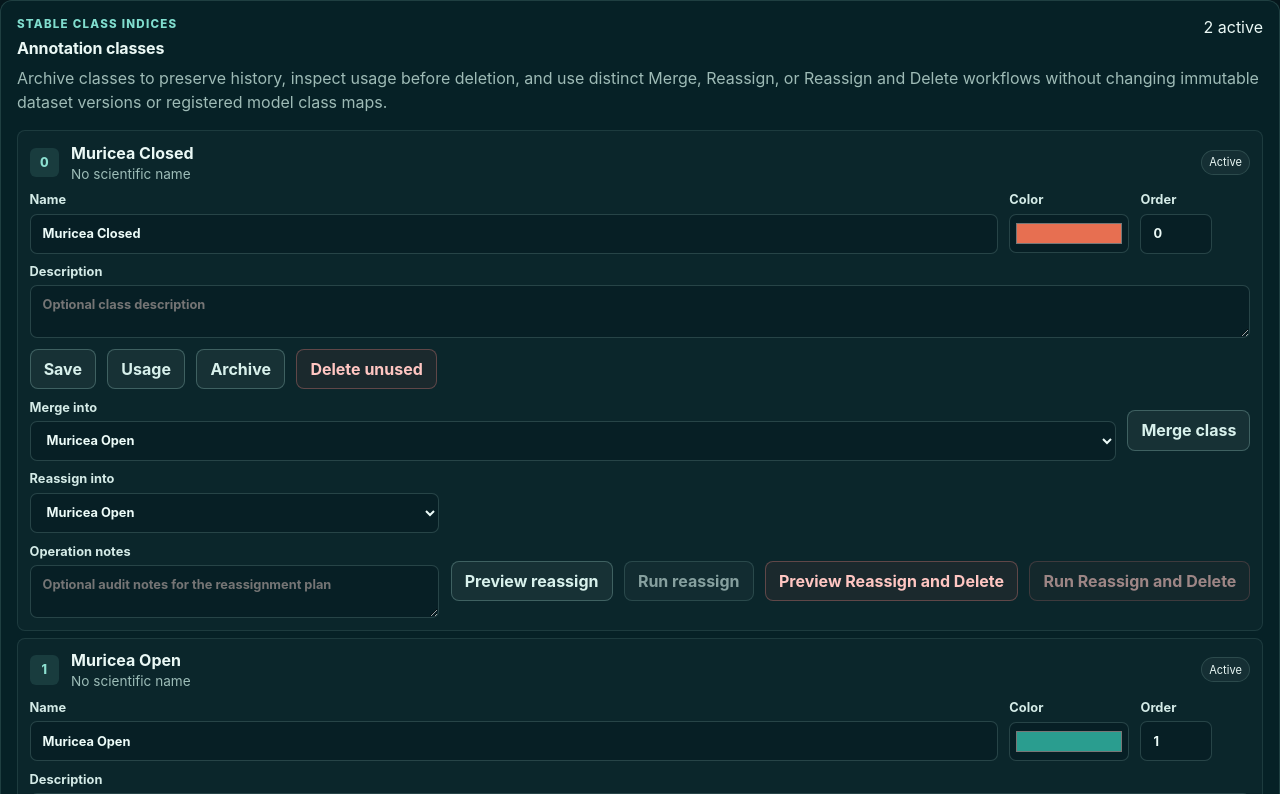
Test: ClassManagerPanel › renders blocking records for reassign and delete previews
Expected: the list item "Muricea Closed" is shown, [71, 143, 194, 163]
Click the button "Preview Reassign and Delete". click: (891, 581)
box: [765, 561, 1018, 601]
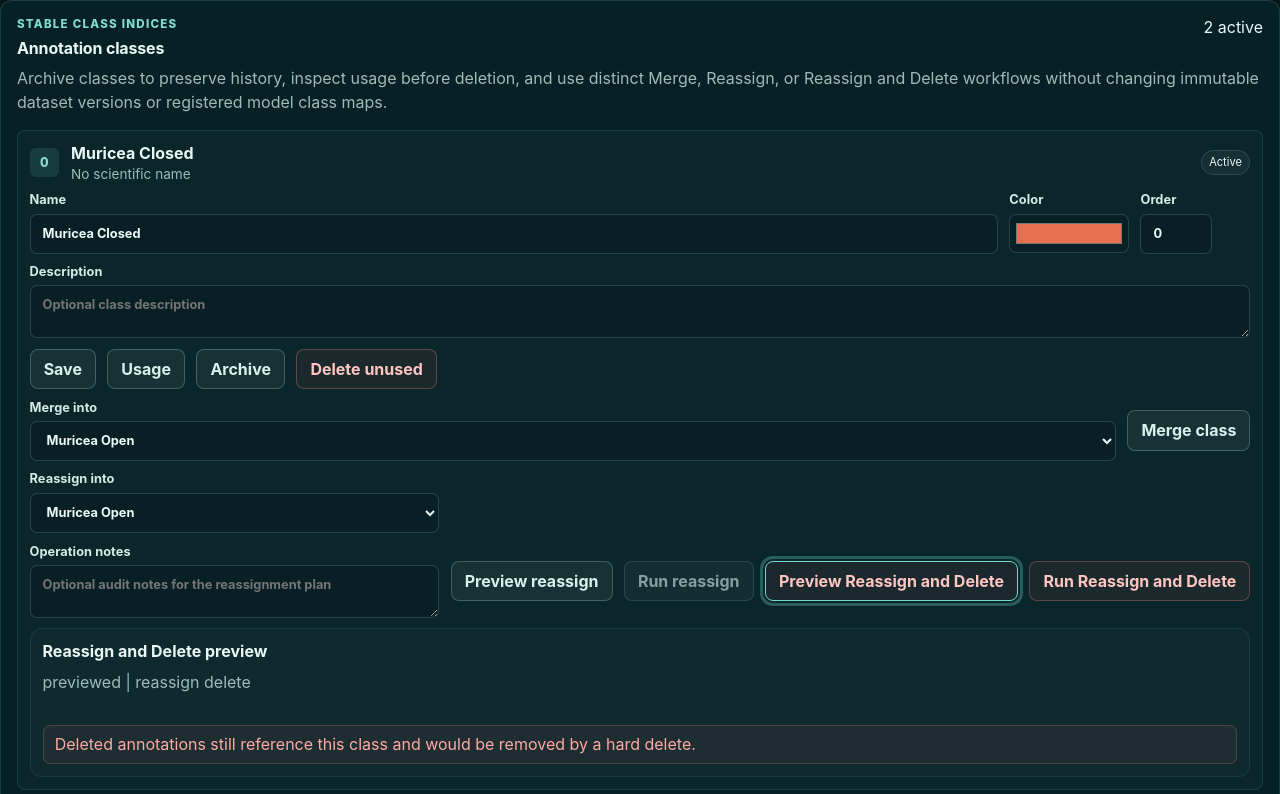
Now the text "Reassign and Delete preview" is shown, box [42, 642, 267, 662]
Now the text "Deleted annotations still reference this class and would be removed by a hard delete." is shown, box [55, 734, 696, 754]
